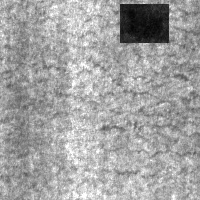crazing: (8, 16, 200, 111), (99, 120, 200, 174)
patches: (120, 4, 169, 43)
